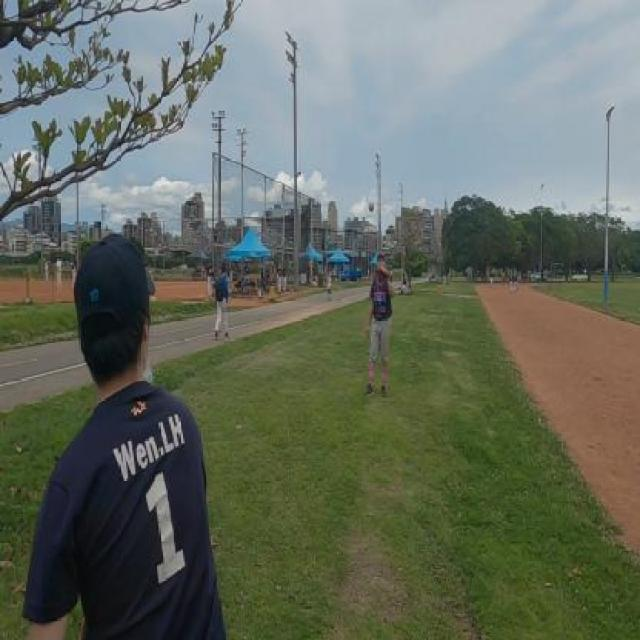baseball: (366, 199, 377, 215)
